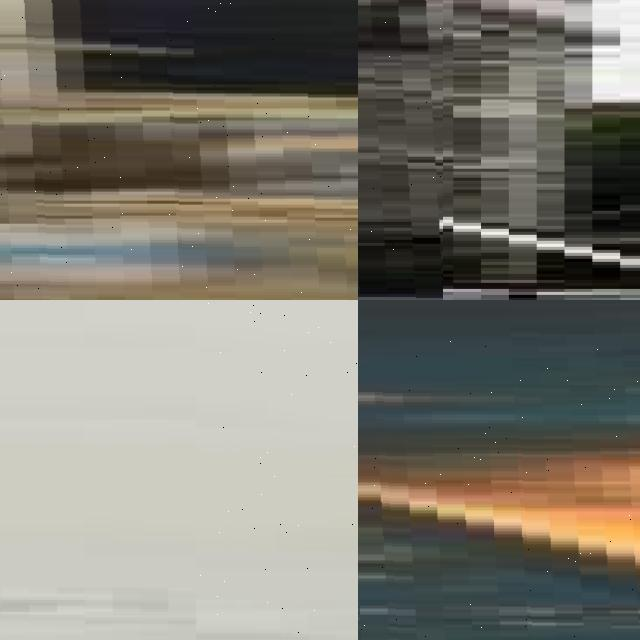street light: (0, 0, 358, 300), (358, 340, 640, 640), (196, 300, 358, 640), (358, 0, 442, 300)
